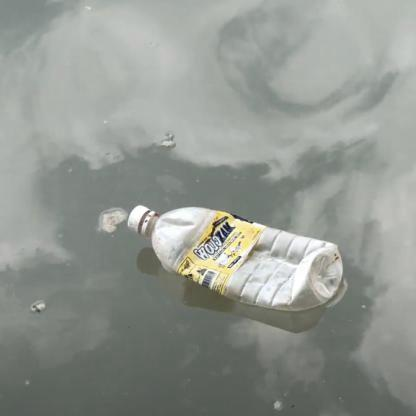Plastic: (124, 199, 344, 315)
